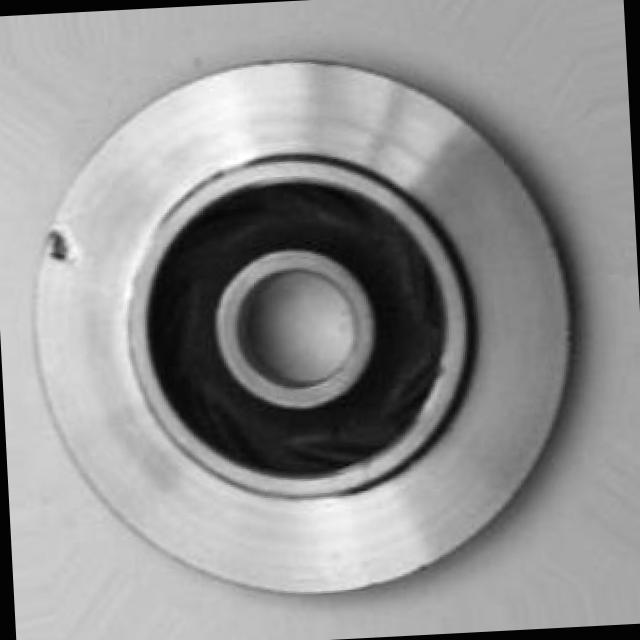Defect: (41, 226, 88, 262)
